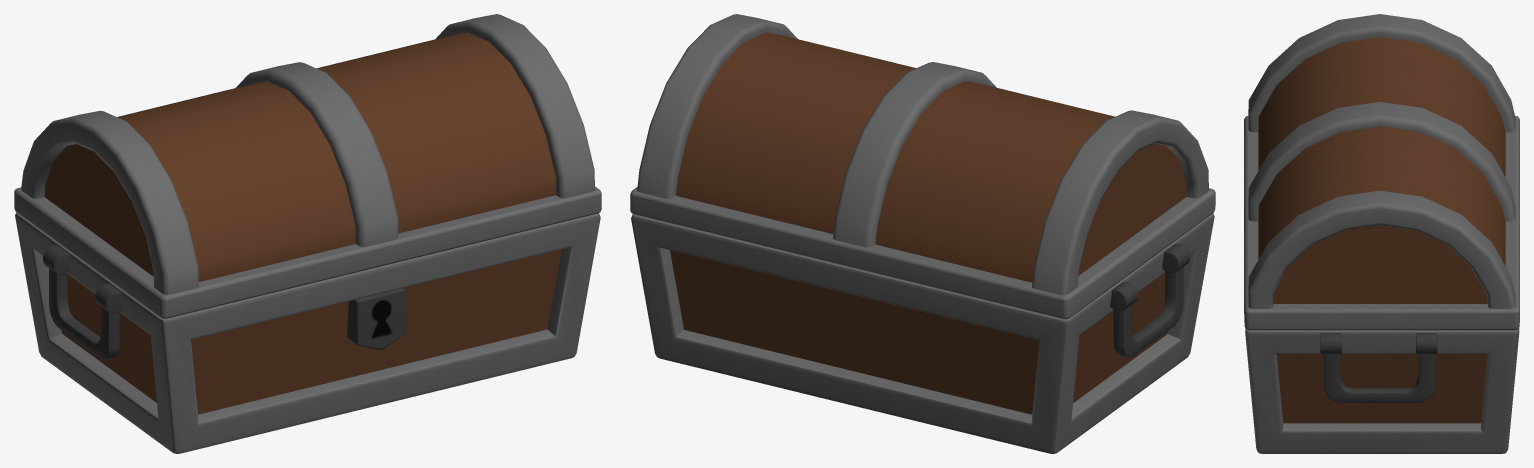
File: SM_Chest.fbx
The picture shows the model from 3 angles, left to right: view 1: azimuth 30°, elevation 25°; view 2: azimuth 150°, elevation 25°; view 3: azimuth 270°, elevation 25°; orthographic projection. The views are drawn at different scales.
Parts seen in each view (by area): view 1: Chest_Top, Chest_Body, Handle_L, Lock; view 2: Chest_Top, Chest_Body, Handle_L; view 3: Chest_Top, Chest_Body, Handle_R.
Boxes of the visible parts, x1,y1,x2,y2 form: Chest_Top: (14, 14, 601, 318); Chest_Body: (15, 212, 600, 453); Handle_L: (43, 245, 123, 359); Lock: (347, 288, 405, 350); Chest_Top: (630, 14, 1215, 319); Chest_Body: (631, 213, 1214, 453); Handle_L: (1110, 243, 1190, 358); Chest_Top: (1244, 14, 1519, 330); Chest_Body: (1245, 328, 1519, 453); Handle_R: (1320, 333, 1437, 402).
Size of the model in its own units: 1.71 by 0.9806 by 0.9524.
1 material, 1 textured.
